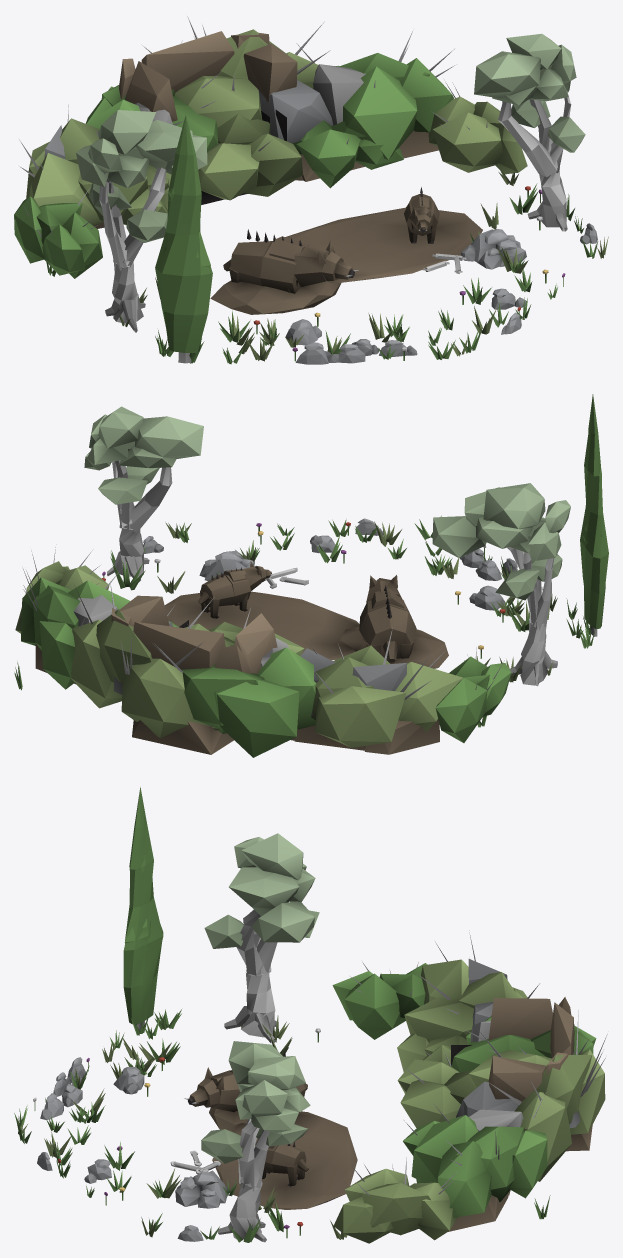
File: boar-den-l1.glb
The picture shows the model from 3 angles, top to bottom: view 1: azimuth 30°, elevation 25°; view 2: azimuth 150°, elevation 25°; view 3: azimuth 270°, elevation 25°; orthographic projection. The views are drawn at different scales.
Visible parts, largest first — view 1: boar-den-l1; view 2: boar-den-l1; view 3: boar-den-l1.
Part boxes in pixels (x1,y1,x2,y2): boar-den-l1: [14, 16, 608, 364]; boar-den-l1: [14, 394, 608, 757]; boar-den-l1: [14, 787, 607, 1243].
Size of the model in its own units: 1.53 by 0.8162 by 1.66.
